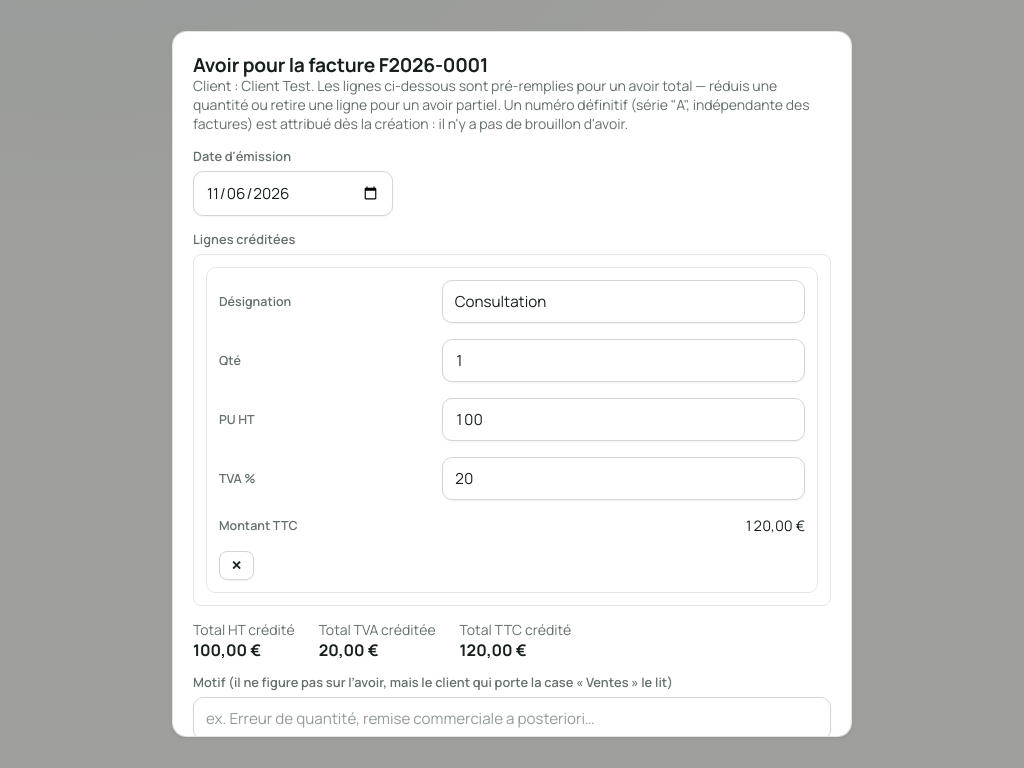
Scenario: FactureAvoirModal — la date d’émission, dans l’espace « cabinet » › ne comptent pas : un avoir validé d’une autre année, une facture (série F), un brouillon
The width and height of the screenshot is (1024, 768).
Expected: the field showing "Consultation" is shown, x1=442 y1=280 x2=805 y2=323
Step 1. Type "2026-09-25" into the date field with id "avoir-date" → (293, 193), box x1=193 y1=171 x2=393 y2=216
(page scrolled)
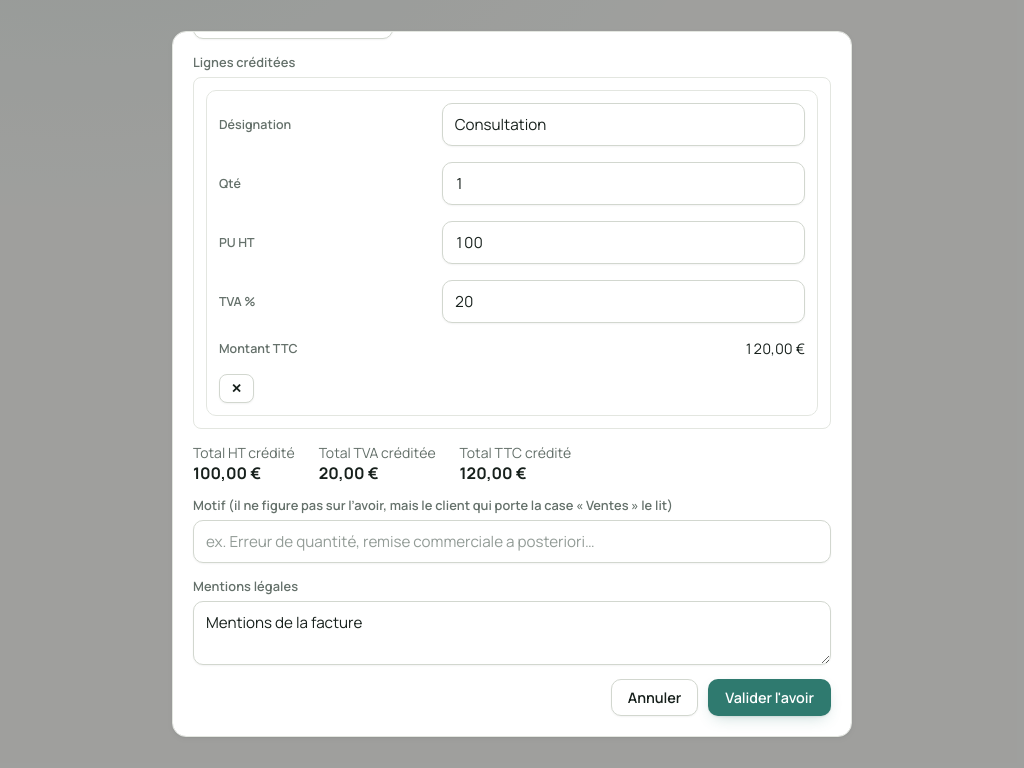
Expected: the button "Valider l'avoir" is enabled, x1=708 y1=679 x2=831 y2=716
